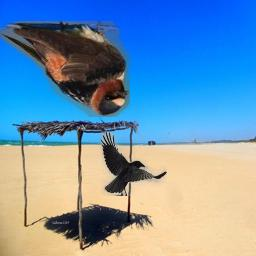Crow: (100, 131, 167, 196)
Swallow: (0, 21, 130, 117)
